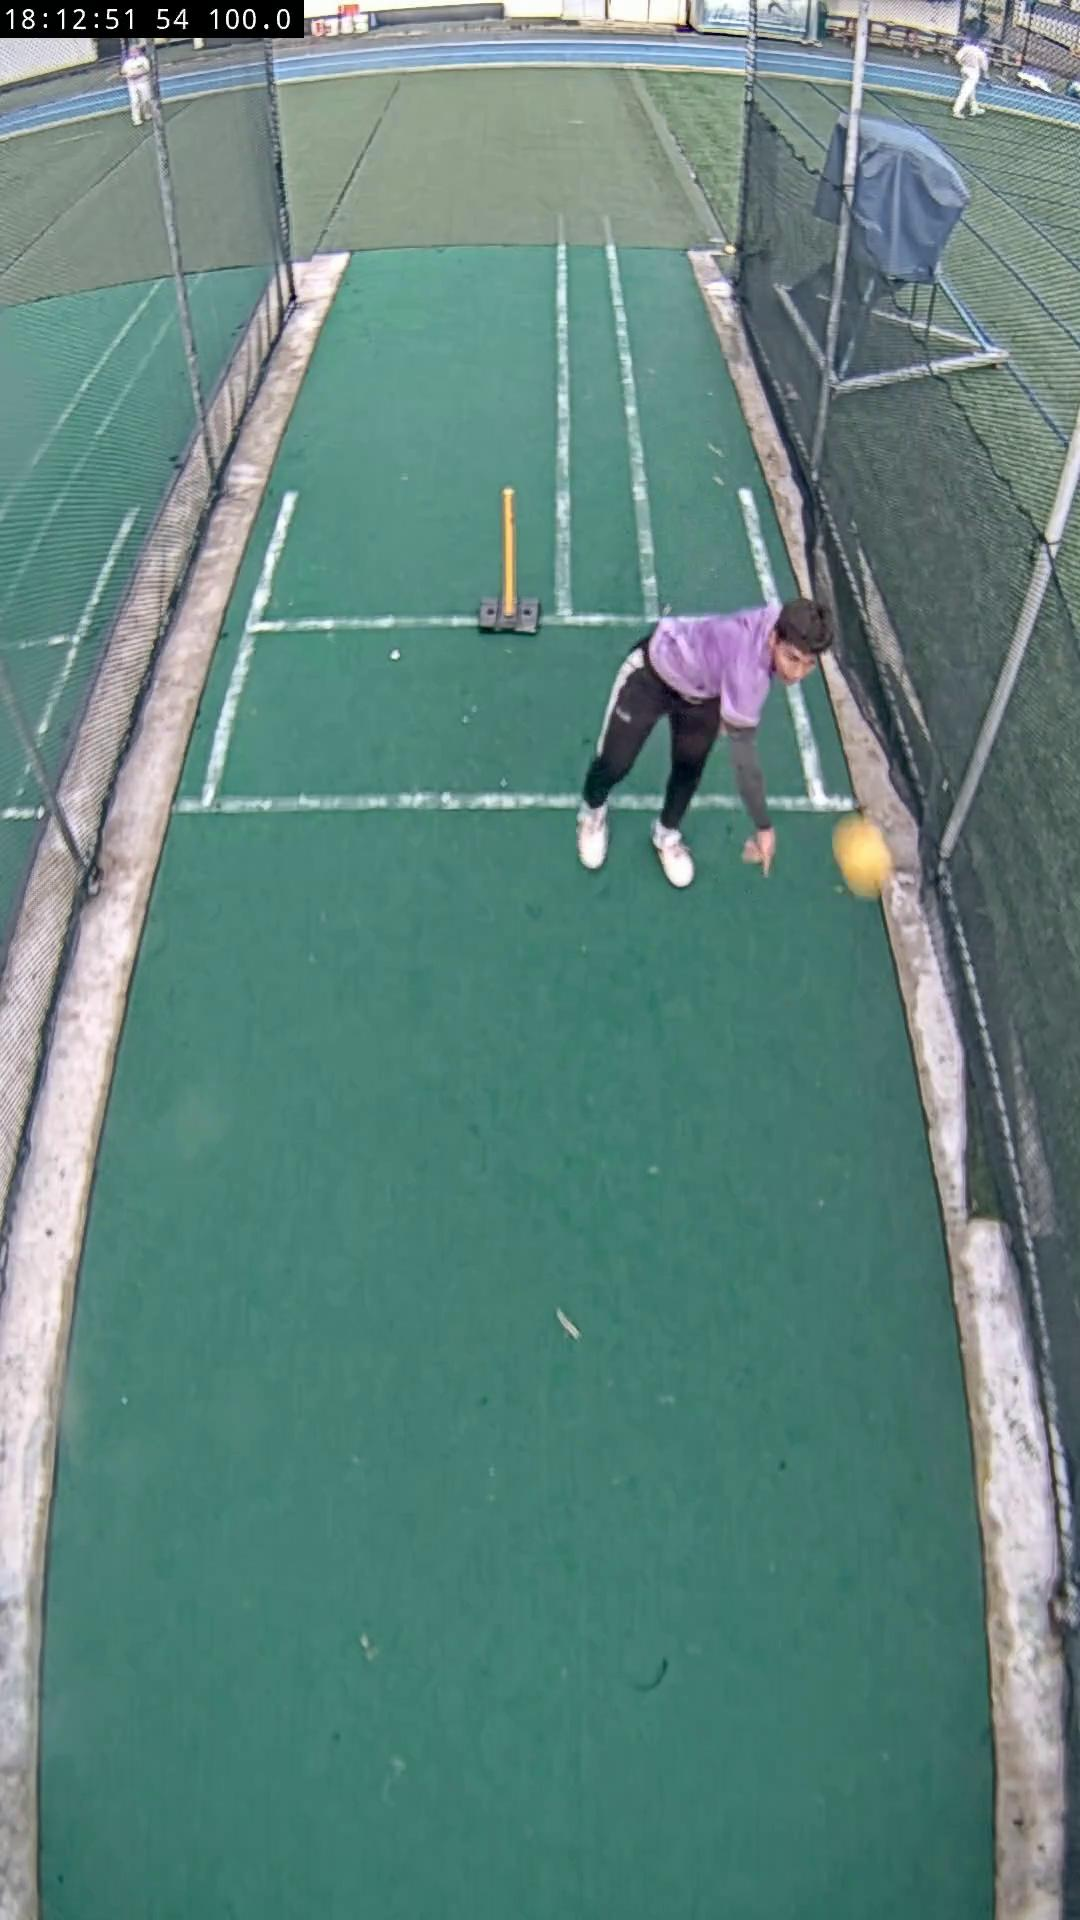ball: (832, 814, 893, 898)
stumps: (476, 488, 541, 634)
